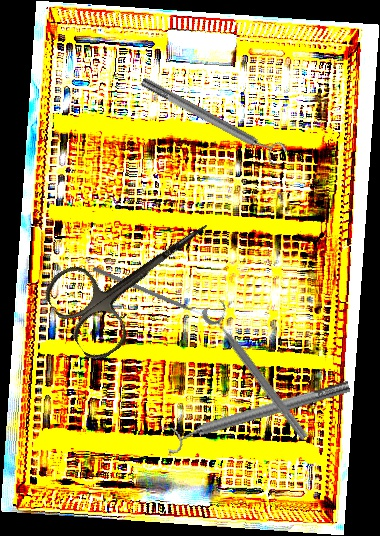Fixation Ring: (199, 296, 320, 444), (161, 372, 354, 456), (136, 68, 290, 170)
Hook Surgical: (91, 266, 207, 320)
Iris Scissors: (38, 187, 236, 367)
